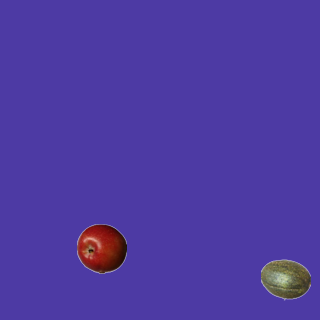Apple Braeburn: (76, 223, 126, 273)
Melon Piel de Sapo: (260, 254, 310, 304)
